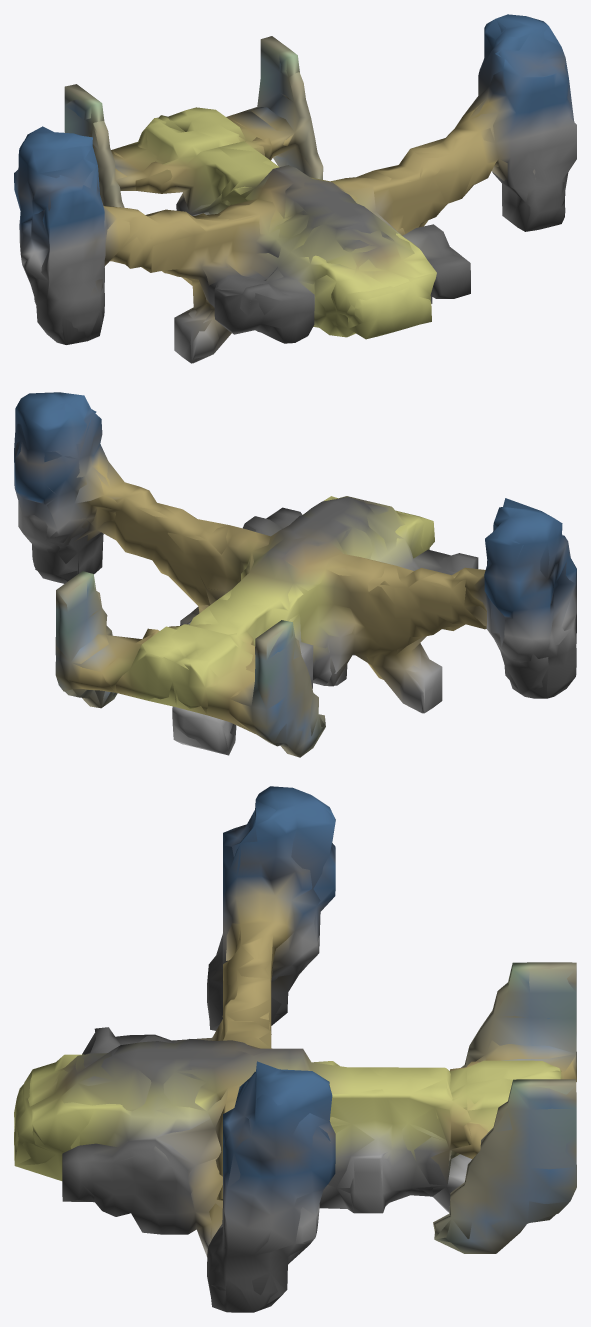
Rendered from osprey_asw.glb.
3 renders of one model, top to bottom at view 1: azimuth 30°, elevation 25°; view 2: azimuth 150°, elevation 25°; view 3: azimuth 270°, elevation 25°, orthographic. The views are drawn at different scales.
Parts seen in each view (by area): view 1: osprey_asw; view 2: osprey_asw; view 3: osprey_asw.
Boxes of the visible parts, bbox=[...] form: osprey_asw: bbox=[14, 14, 576, 363]; osprey_asw: bbox=[14, 392, 576, 757]; osprey_asw: bbox=[14, 786, 576, 1312].
Bounding box in the file's own units: 3.78 × 1.59 × 2.85.
